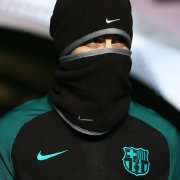face_mask: (66, 16, 131, 98)
